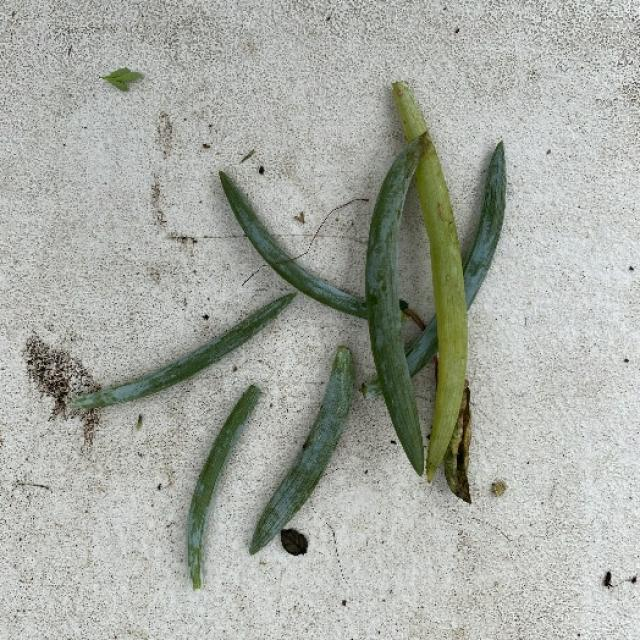organic: (248, 462, 331, 560)
